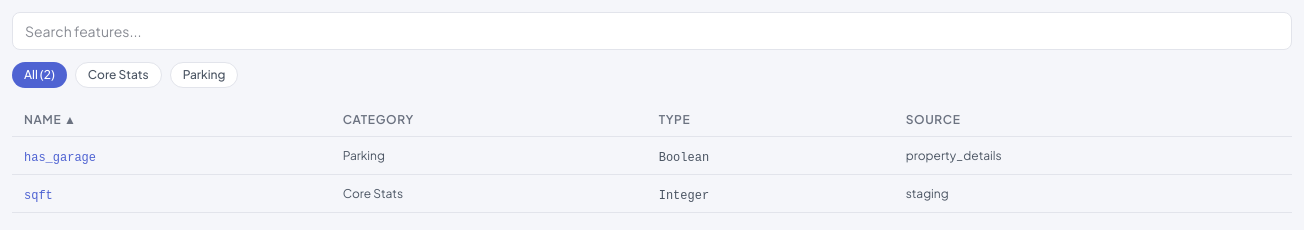
Test: FeatureCatalogTable › filters by category when chip clicked
This screenshot has width=1304, height=230.
// Use role selector to target the chip button, not the table cell
Click the button "Parking": (204, 75) [170,62,238,88]
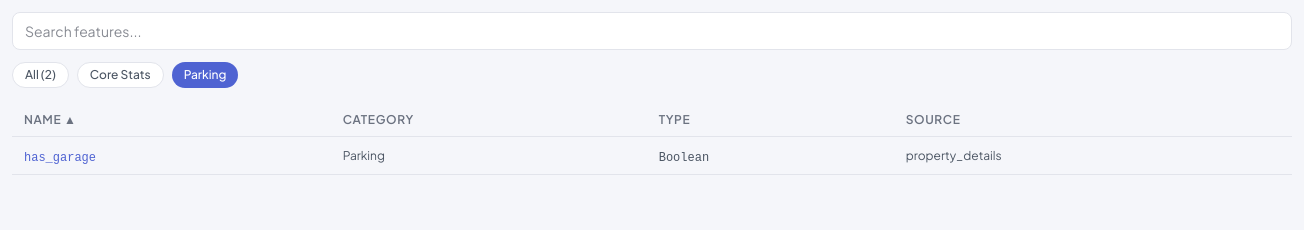
Check: the button "has_garage" is shown, box [24,150,96,166]
Check: the button "sqft" is gone
